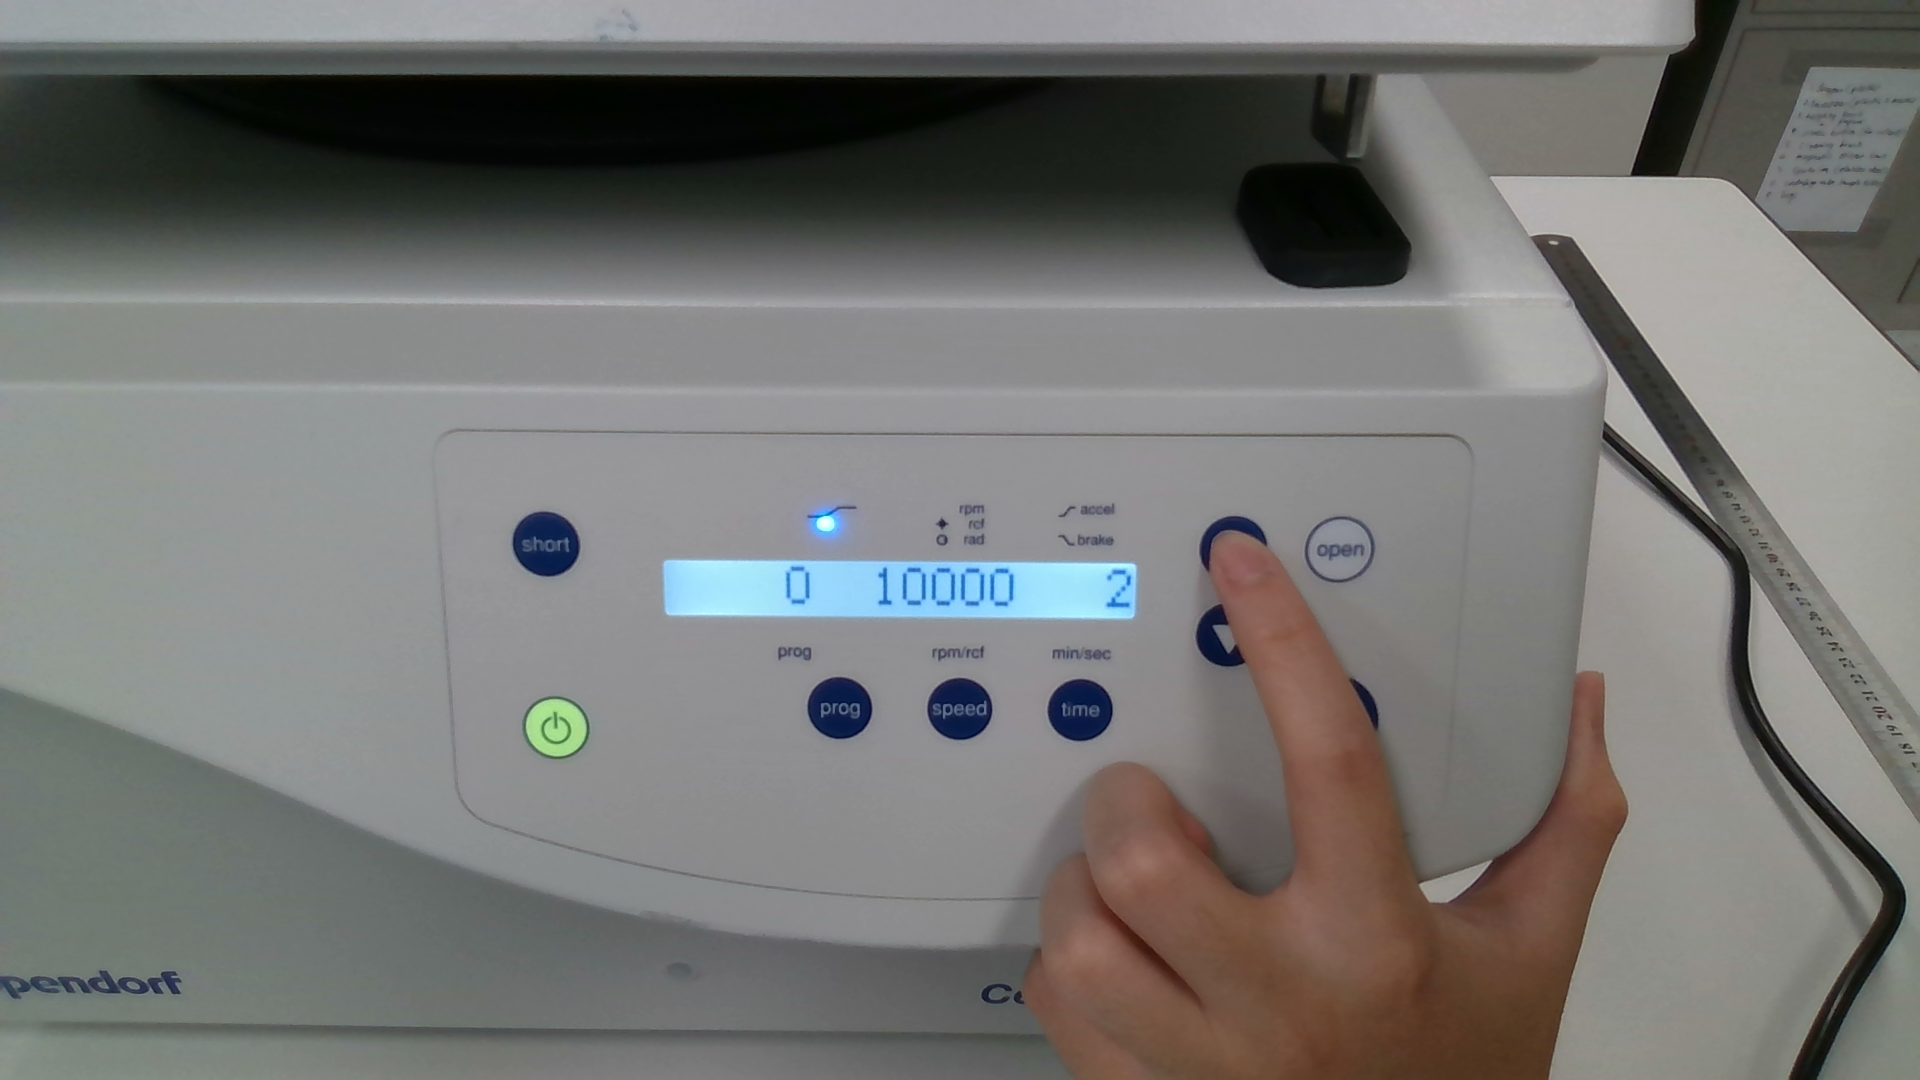0: (786, 566, 811, 605), (902, 567, 927, 607), (931, 567, 956, 607), (960, 568, 985, 607), (989, 568, 1014, 607)
1: (877, 567, 893, 607)
2: (1106, 568, 1131, 608)
open_off: (1304, 516, 1375, 584)
power_on: (522, 696, 589, 760)
